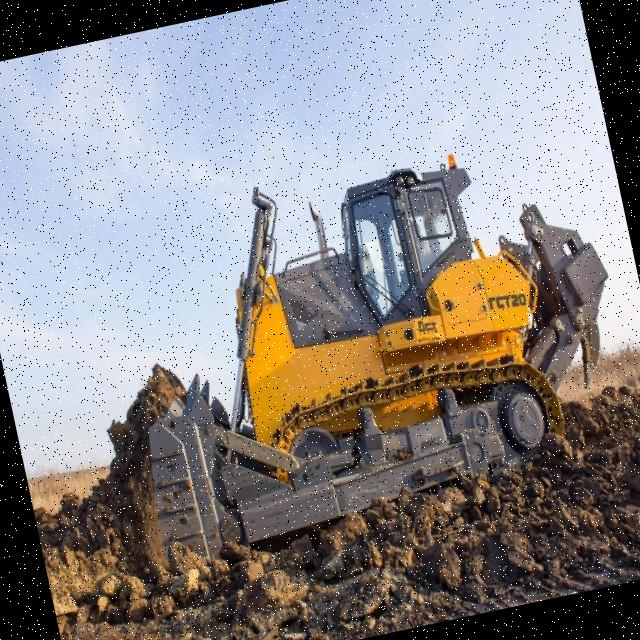Bulldozer: (75, 106, 640, 614)
